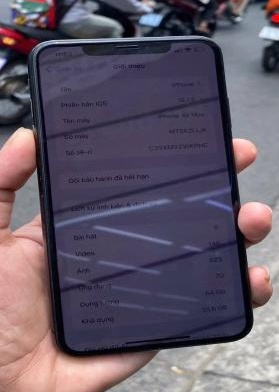screen_defect: (39, 116, 121, 151), (48, 192, 86, 224), (123, 109, 171, 133), (174, 93, 222, 117), (89, 188, 127, 217), (57, 269, 92, 298), (92, 266, 118, 296), (145, 330, 187, 348), (171, 242, 200, 268), (159, 173, 184, 200), (119, 264, 148, 286), (188, 321, 217, 342), (149, 254, 172, 280), (186, 168, 209, 192), (131, 181, 157, 202), (200, 236, 223, 259), (209, 163, 234, 182), (218, 315, 247, 331), (225, 232, 244, 252)
